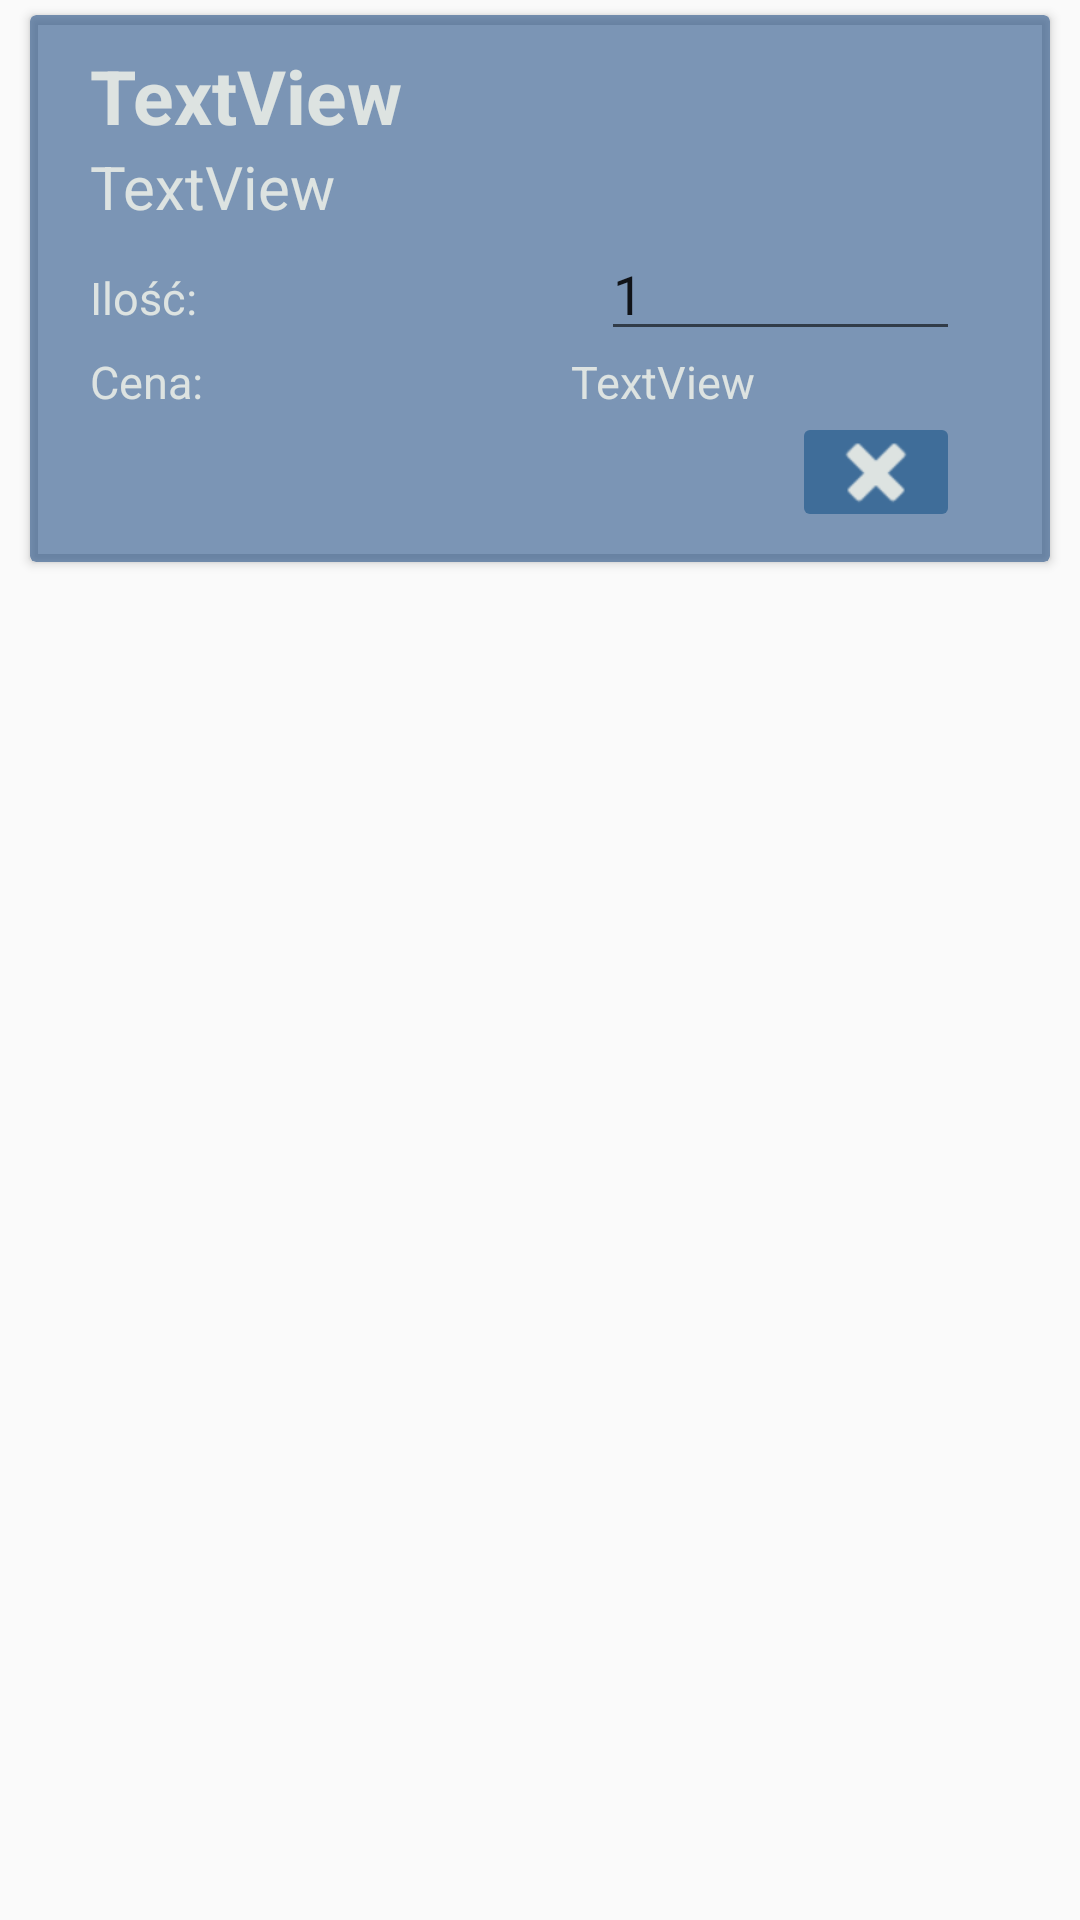

Where to tap for icons on this 1080w x 1920h app screen, as [x,y]:
delete: [876,472]
